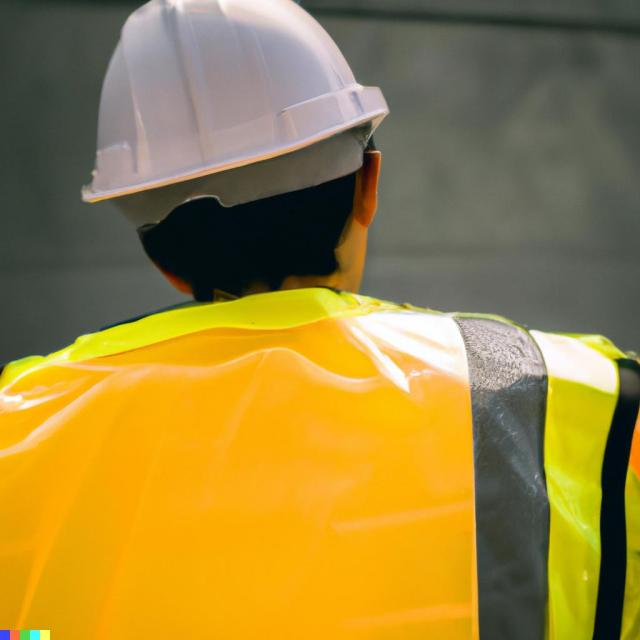Reflective-Jacket: (0, 267, 640, 640)
Safety-Helmet: (76, 4, 396, 206)
